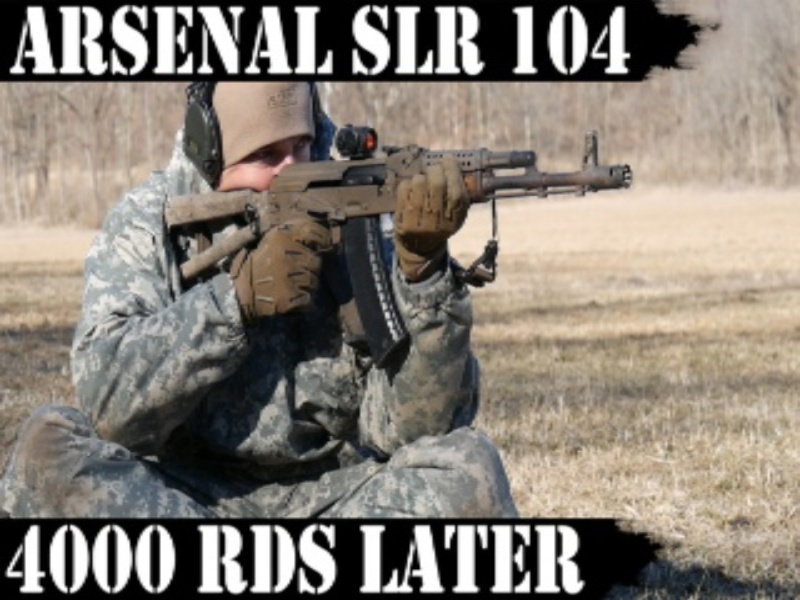person: (13, 82, 519, 517)
weapon: (161, 125, 633, 363)
